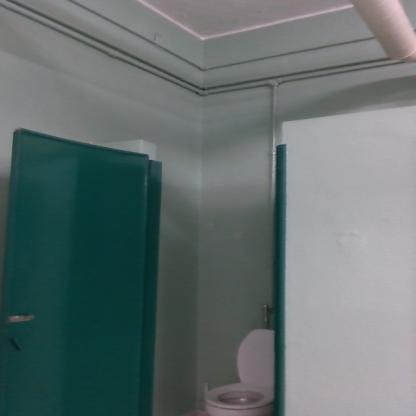open: (1, 111, 317, 416)
